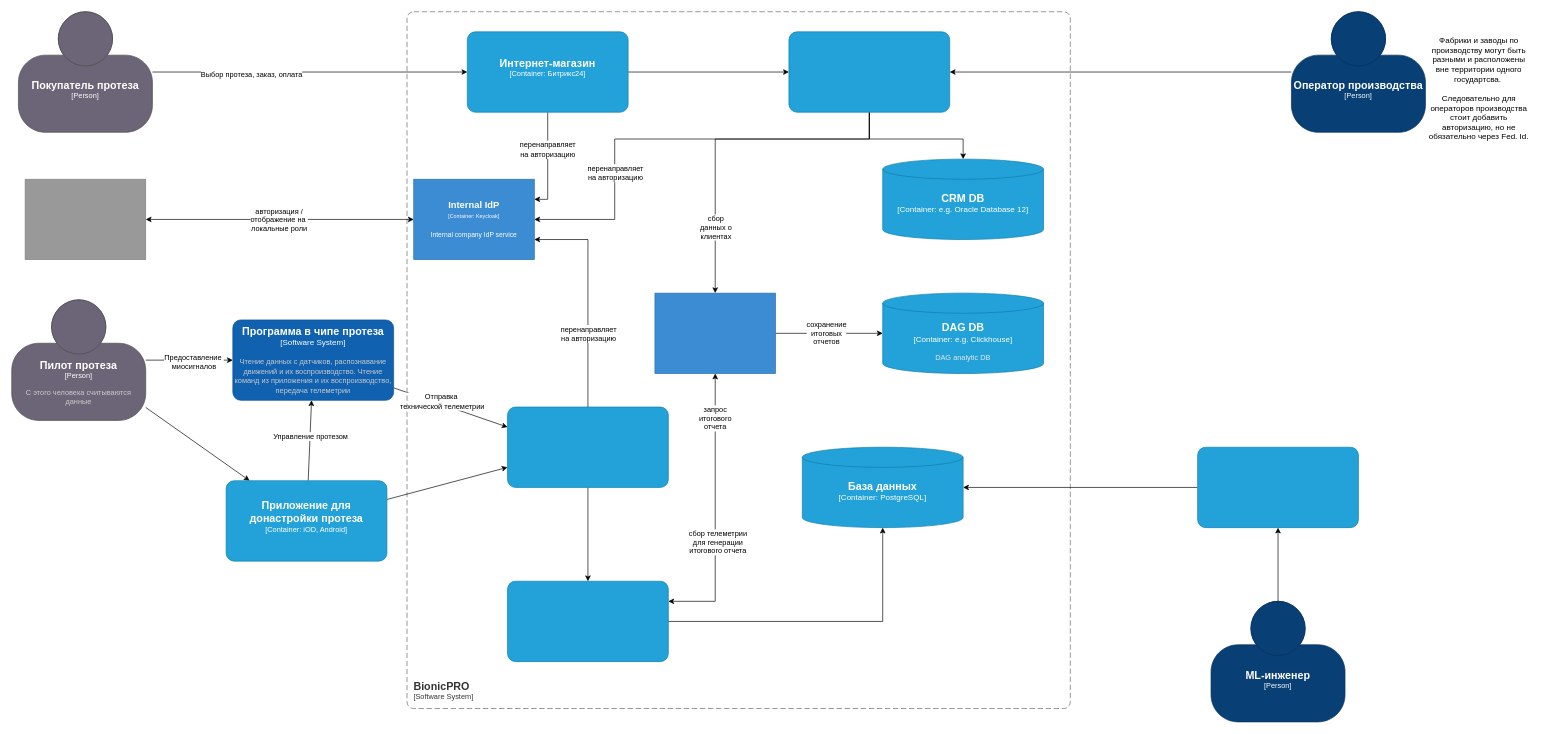
The diagram is 1544 pixels wide and 734 high, and some of its shapes have lost their labels. Each missing label, with the centre of its shape:
"API [Container: e.g. SpringBoot, ElasticSearch, etc.]" goes at point (587, 621).
"API Gateway [Container: e.g. kong] API Gateway" goes at point (587, 446).
"cli tool [Container: e.g. SpringBoot, ElasticSearch, etc.]" goes at point (1277, 487).
"CRM [Container: Битрикс24]" goes at point (869, 71).
"DAG system [Container: Airflow] DAG system" goes at point (715, 333).
"Ext. Federated Identity [Software System ] External Federated Identity service" goes at point (85, 219).
